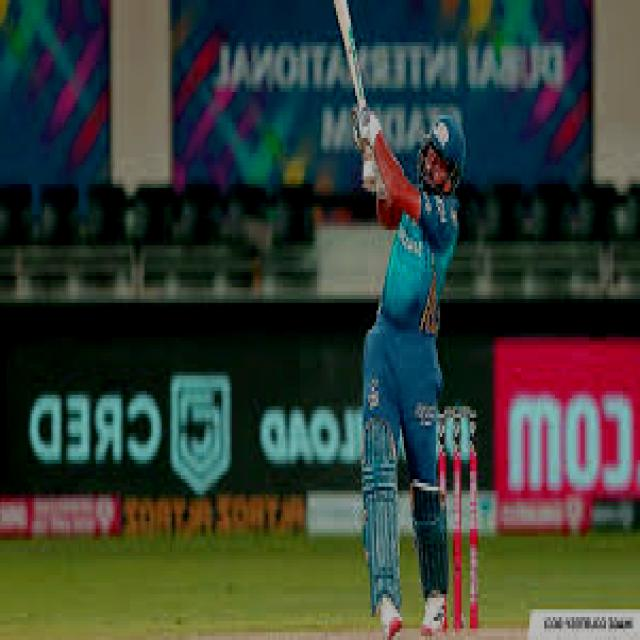toe: (330, 0, 354, 22)
